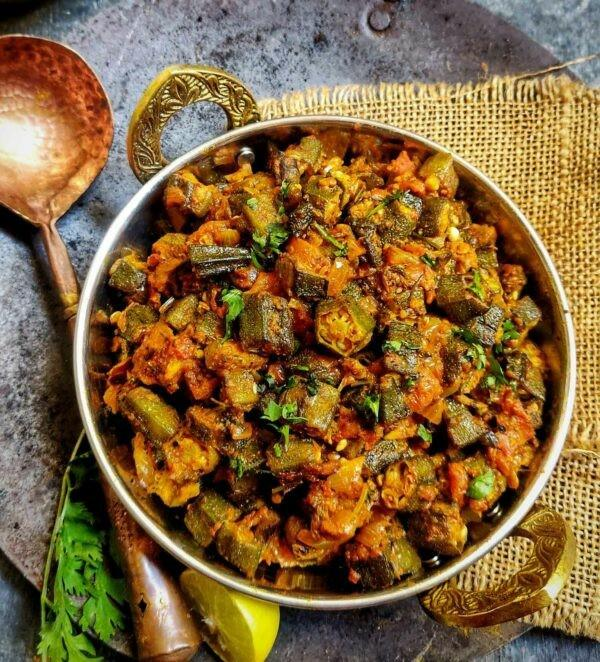BhindiMasala: (94, 129, 545, 591)
